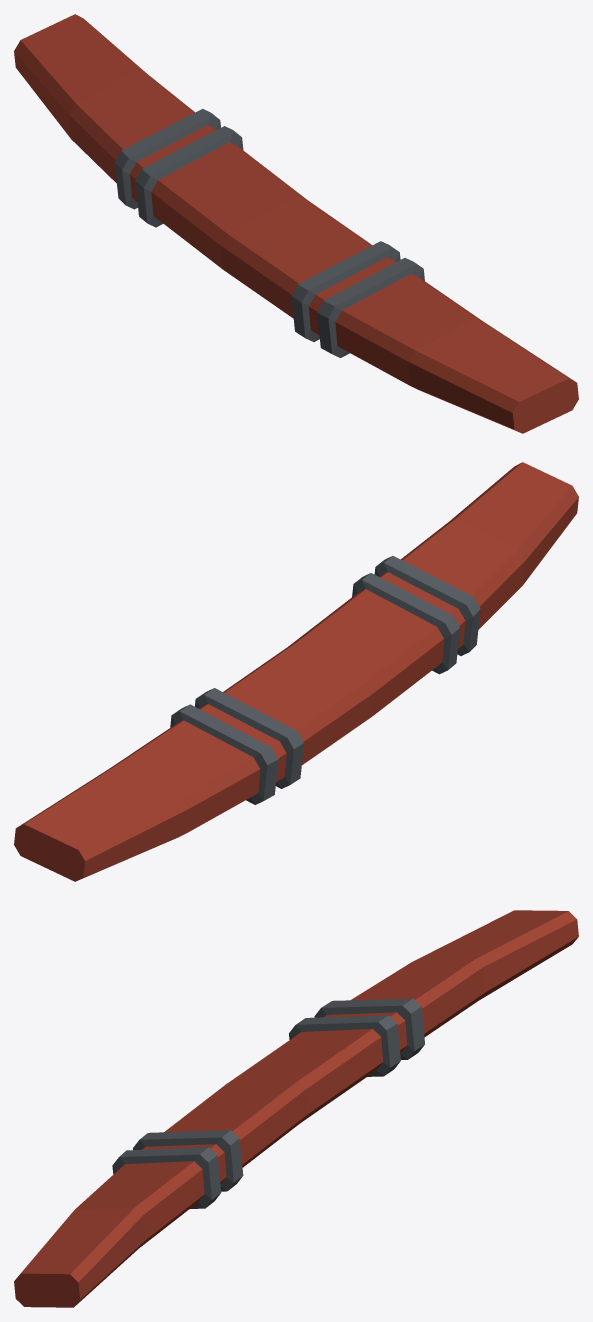
Rendered from Mothership_02_Glider_Left_Red.fbx.
3 views of the same model, one above another, from view 1: azimuth 30°, elevation 25°; view 2: azimuth 150°, elevation 25°; view 3: azimuth 330°, elevation 25° (orthographic).
Parts seen in each view (by area): view 1: Mothership_02_Glider_Left_Red; view 2: Mothership_02_Glider_Left_Red; view 3: Mothership_02_Glider_Left_Red.
Part boxes in pixels (x1,y1,x2,y2): Mothership_02_Glider_Left_Red: (14,14,578,433); Mothership_02_Glider_Left_Red: (14,462,578,881); Mothership_02_Glider_Left_Red: (14,910,578,1307).
Size of the model in its own units: 292 by 182 by 2166.
1 material, 1 textured.
